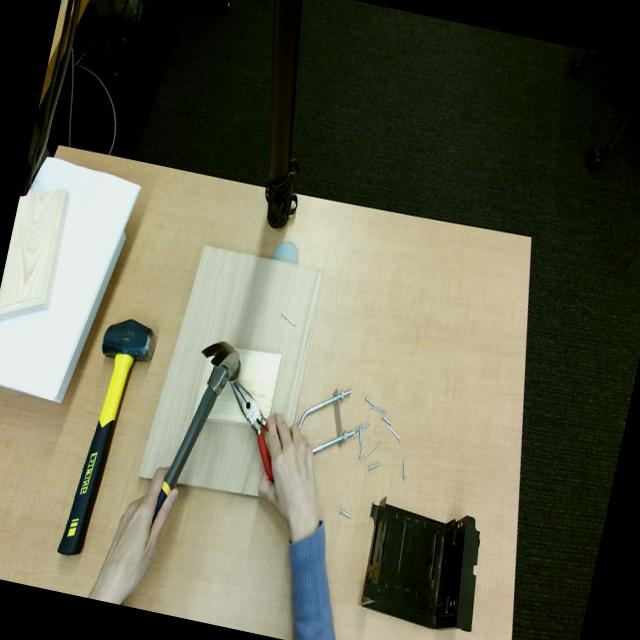hammer: (58, 321, 154, 556), (154, 343, 241, 516)
pliers: (230, 380, 273, 482)
